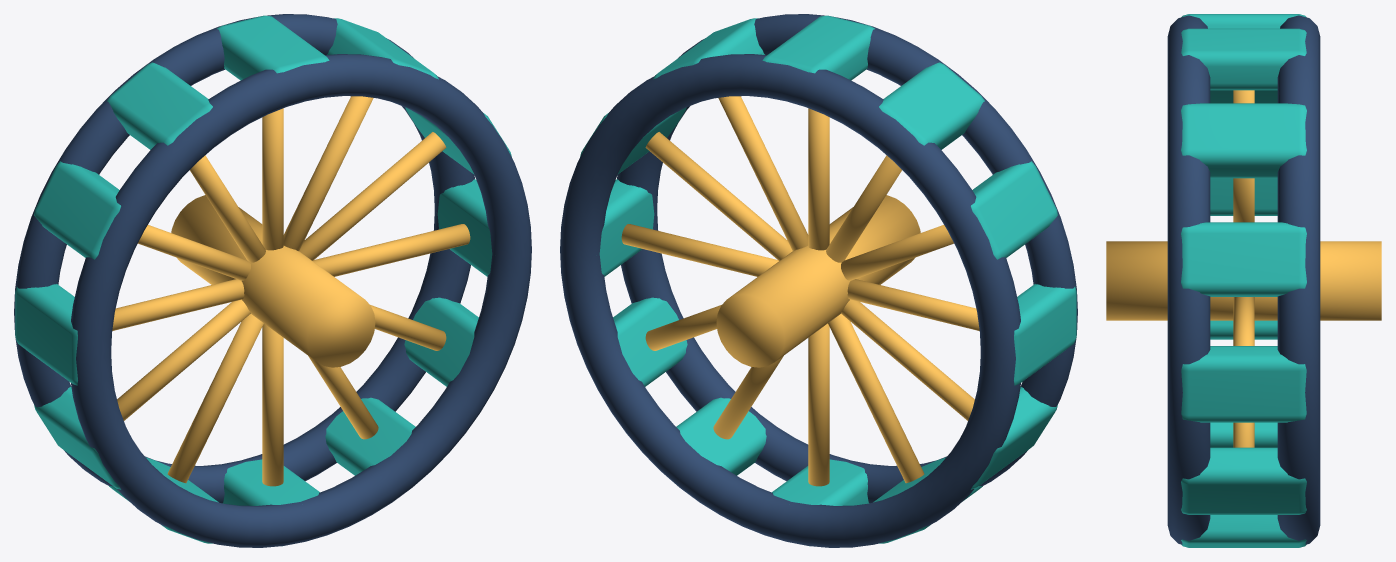
The model's file is water-wheel-quality.glb.
The picture shows the model from 3 angles, left to right: view 1: azimuth 30°, elevation 25°; view 2: azimuth 150°, elevation 25°; view 3: azimuth 270°, elevation 25°; orthographic projection.
Visible parts, largest first — view 1: Wheel rim; view 2: Wheel rim; view 3: Wheel rim.
Boxes of the visible parts, <box> form: Wheel rim: <box>14,14,531,547</box>; Wheel rim: <box>560,14,1077,547</box>; Wheel rim: <box>1106,14,1381,547</box>.
Bounding box in the file's own units: 1.74 × 1.74 × 0.9.
